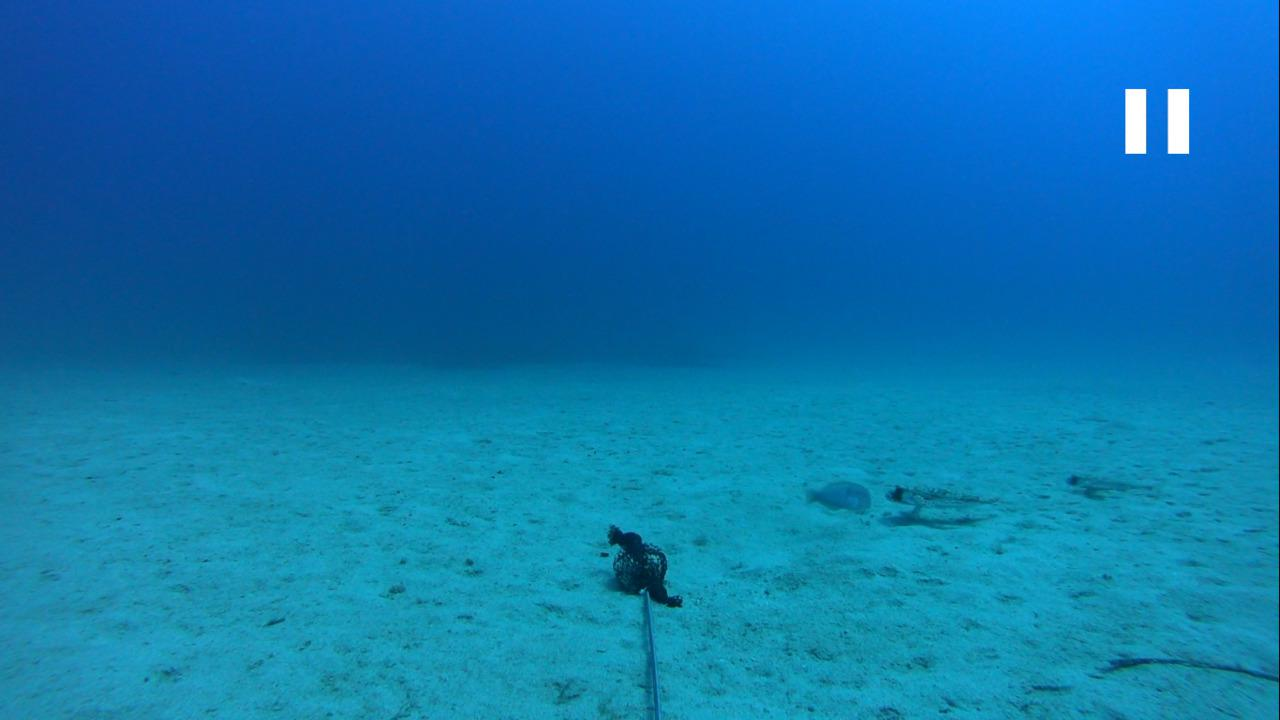dactylopterus: (881, 477, 1009, 521), (1055, 465, 1169, 509)
raor: (801, 475, 875, 526)
